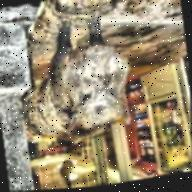boar: (25, 22, 142, 168)
